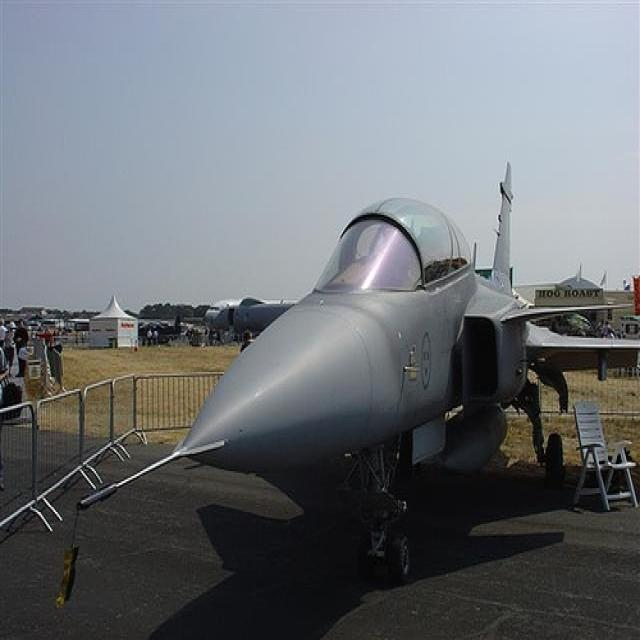aeroplane: (176, 162, 638, 580)
chair: (563, 394, 639, 517)
